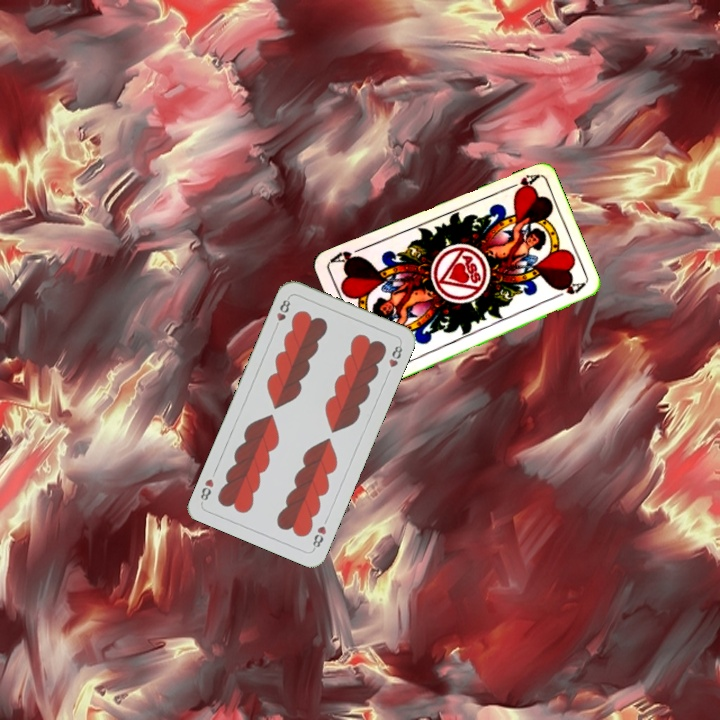H8: (271, 293, 293, 332), (308, 522, 329, 553)
HA: (501, 170, 541, 197)
